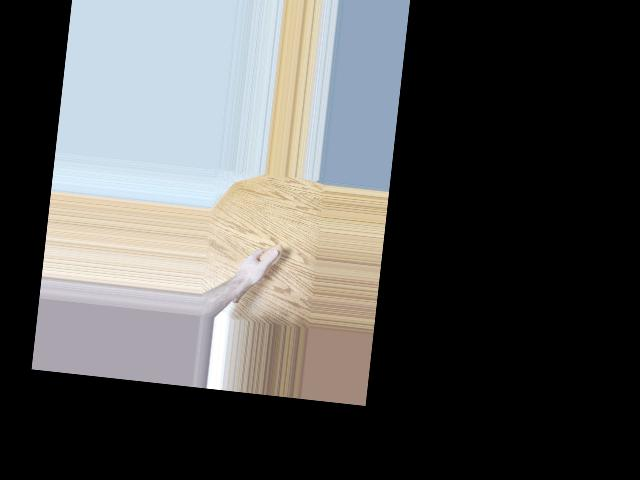sweet_potato: (231, 240, 283, 309)
